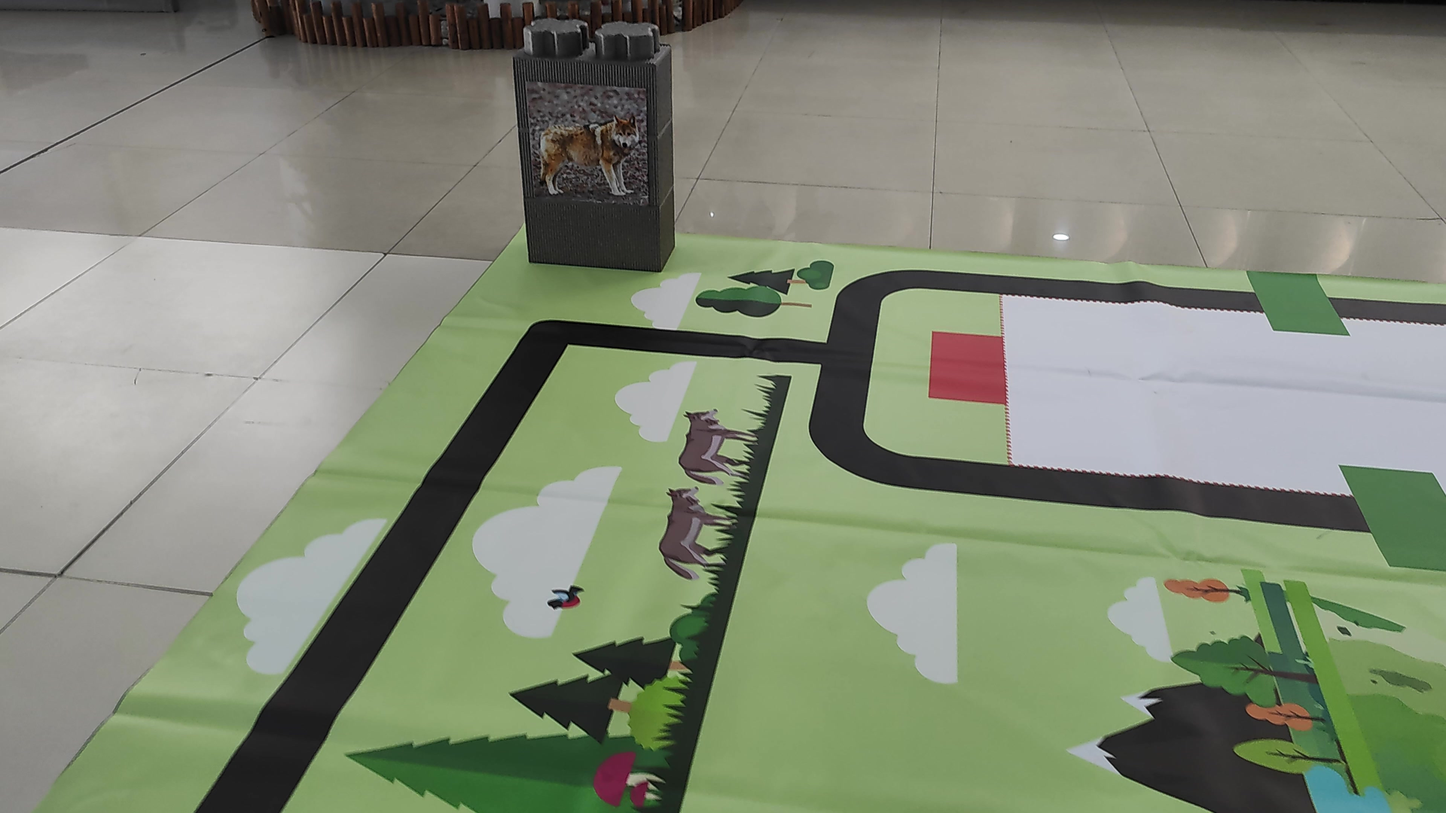wolf: (520, 104, 653, 210)
